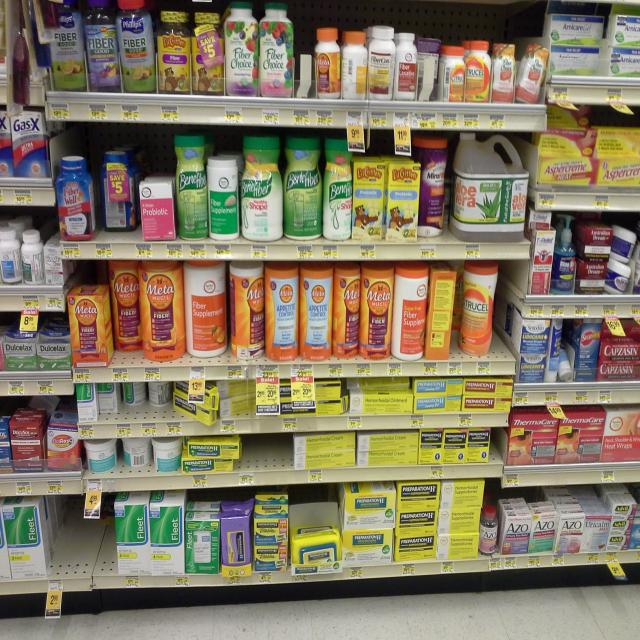empty: (51, 505, 120, 573), (238, 441, 294, 469)
